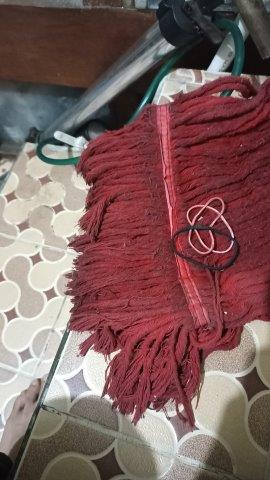karet: (171, 197, 241, 270)
